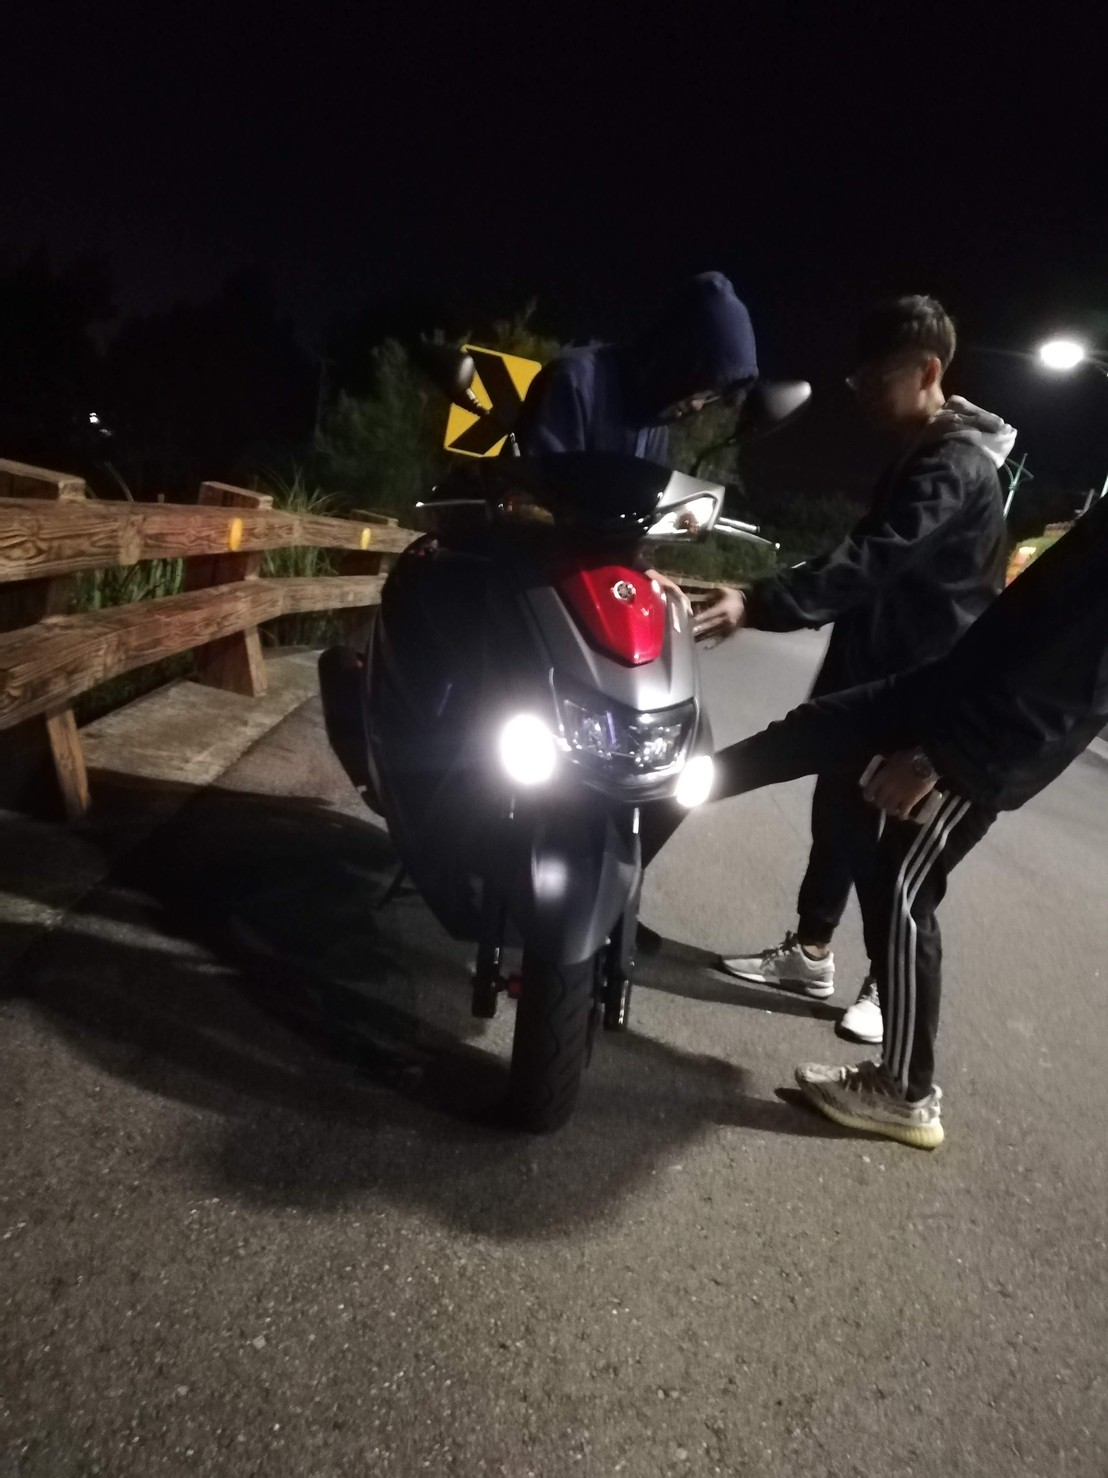people: (840, 540, 1108, 1164), (802, 262, 962, 1009), (512, 226, 764, 631)
